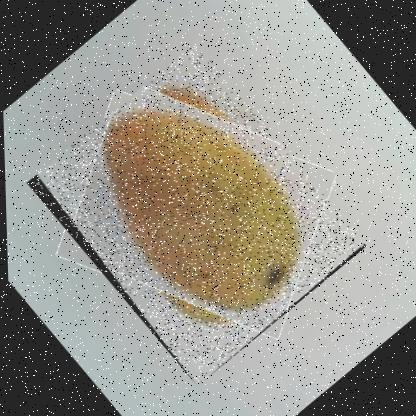mango: (19, 40, 367, 385)
